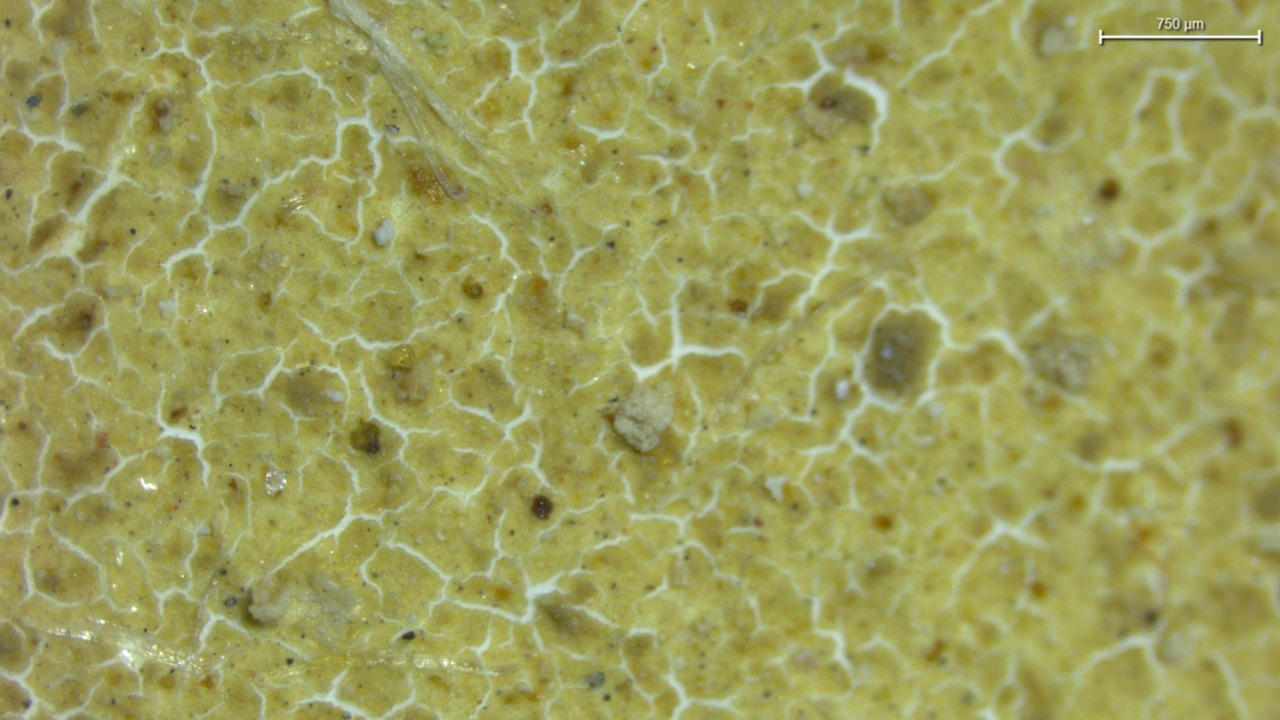microplastic_fragment: (613, 383, 673, 452), (247, 596, 288, 625), (264, 471, 287, 496)
